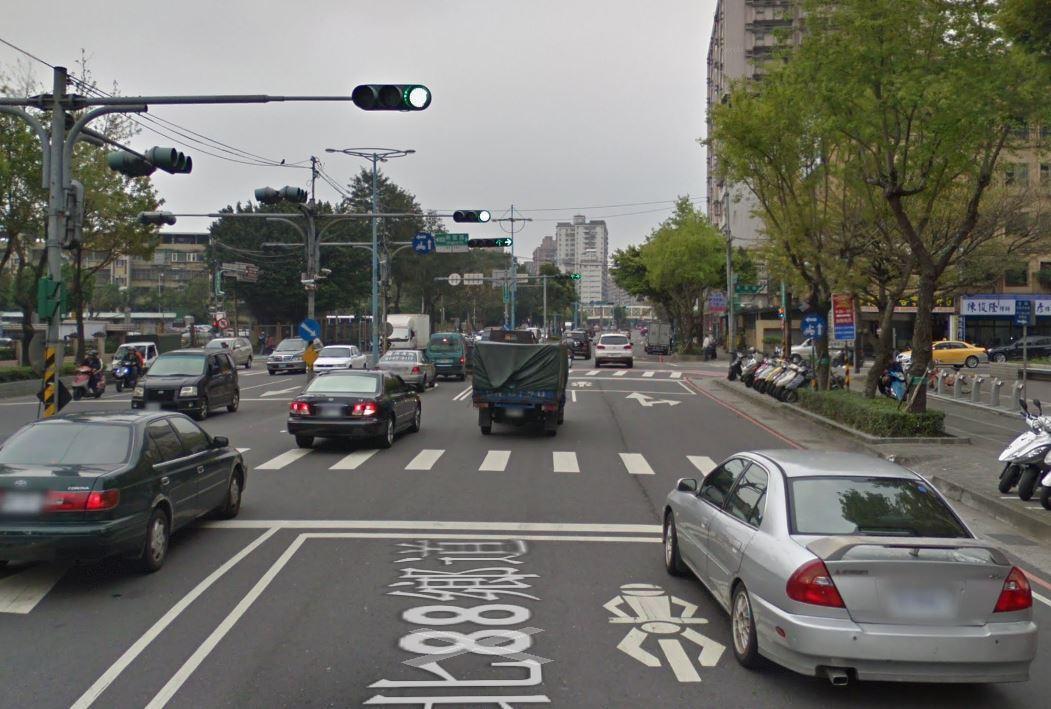car: (659, 453, 1042, 701), (0, 400, 252, 575), (285, 366, 427, 450), (126, 347, 243, 418), (266, 335, 322, 381), (587, 327, 639, 372), (312, 342, 369, 381)
green_traffic_light: (351, 82, 433, 112), (450, 206, 488, 223)
motorcycle: (66, 343, 109, 403), (107, 345, 152, 395)
truck: (465, 332, 575, 439), (381, 309, 435, 363)
